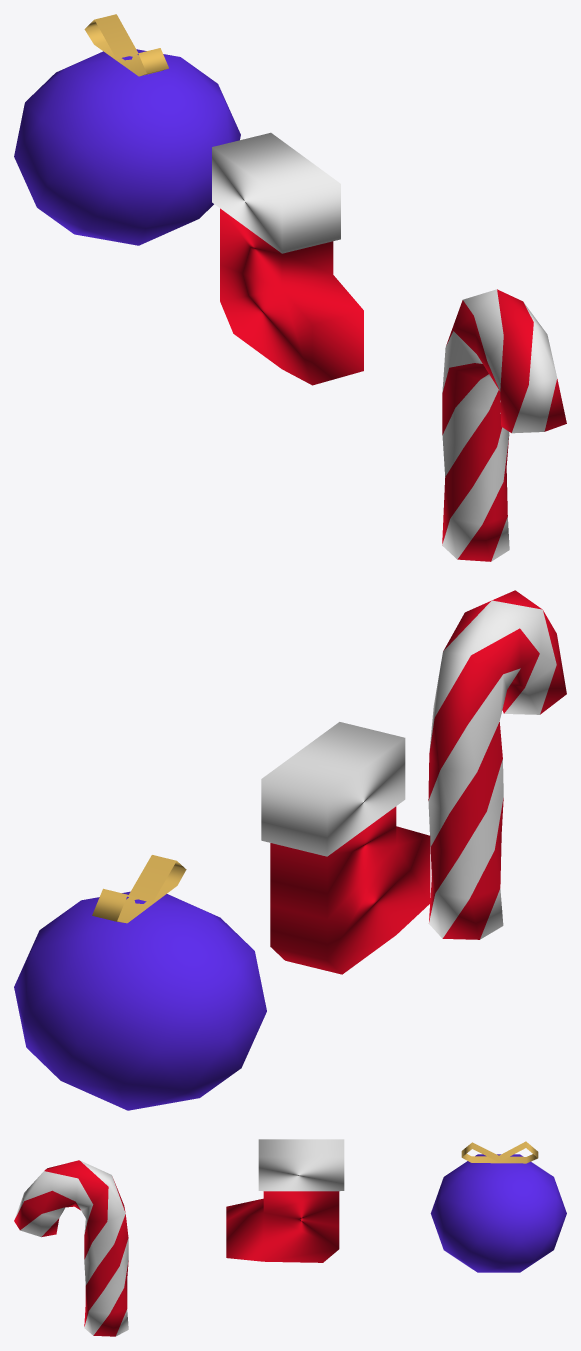
The model's file is decorations.glb.
The picture shows the model from 3 angles, top to bottom: view 1: azimuth 30°, elevation 25°; view 2: azimuth 150°, elevation 25°; view 3: azimuth 270°, elevation 25°; orthographic projection. The views are drawn at different scales.
Visible parts, largest first — view 1: Icosphere.002, Cube, Circle.001; view 2: Icosphere.002, Cube, Circle.001; view 3: Icosphere.002, Cube, Circle.001.
Part boxes in pixels (bbox=[...]): Icosphere.002: bbox=[14, 14, 240, 245]; Cube: bbox=[212, 132, 363, 385]; Circle.001: bbox=[442, 289, 566, 561]; Icosphere.002: bbox=[14, 855, 266, 1110]; Cube: bbox=[261, 722, 430, 974]; Circle.001: bbox=[428, 590, 566, 939]; Icosphere.002: bbox=[430, 1141, 566, 1272]; Cube: bbox=[226, 1139, 344, 1262]; Circle.001: bbox=[14, 1160, 128, 1336].
Bounding box in the file's own units: 1.15 × 1.64 × 4.68.
